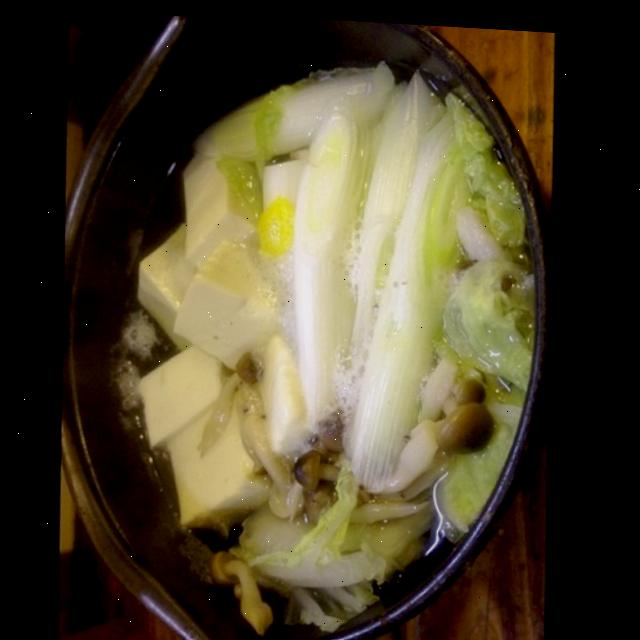豆腐料理: (50, 36, 568, 640)
